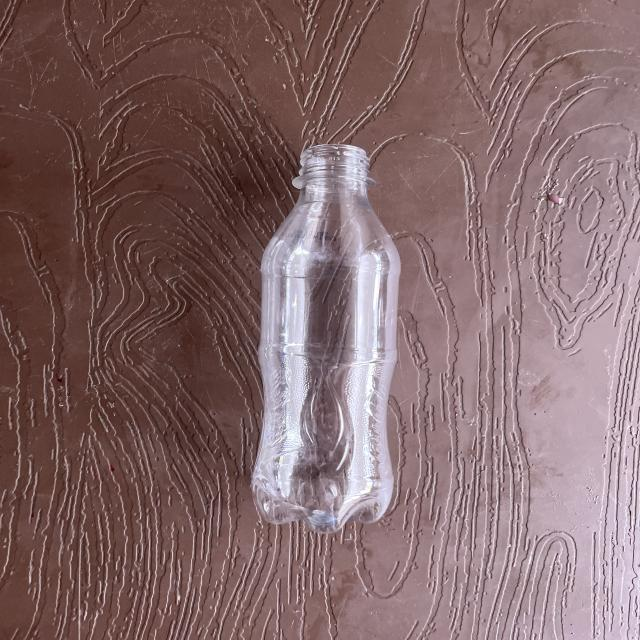PET_ClearBottle: (237, 149, 412, 570)
